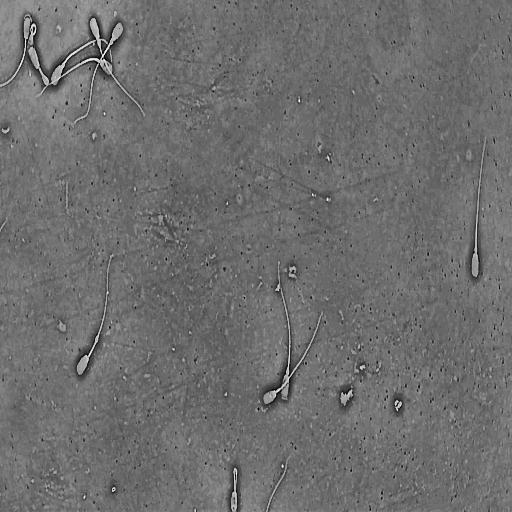coiled-tail: (27, 22, 37, 56), (234, 468, 237, 511), (30, 23, 36, 35)
dirt-particles: (339, 386, 355, 409), (393, 396, 404, 414)
distal-droplet: (95, 335, 99, 343)
folded-tail: (23, 14, 49, 86), (40, 69, 47, 84)
loose-tail: (264, 457, 290, 512)
normal: (262, 307, 324, 404), (89, 16, 146, 117), (73, 22, 124, 125), (76, 253, 114, 377), (35, 57, 114, 98), (50, 37, 113, 87), (471, 132, 487, 278), (0, 16, 31, 89), (22, 13, 50, 88), (277, 257, 291, 401), (230, 465, 238, 511)
proximal-droplet: (109, 38, 114, 46), (97, 38, 101, 46), (61, 62, 65, 69), (474, 245, 477, 254), (286, 368, 289, 375), (276, 388, 280, 393)
